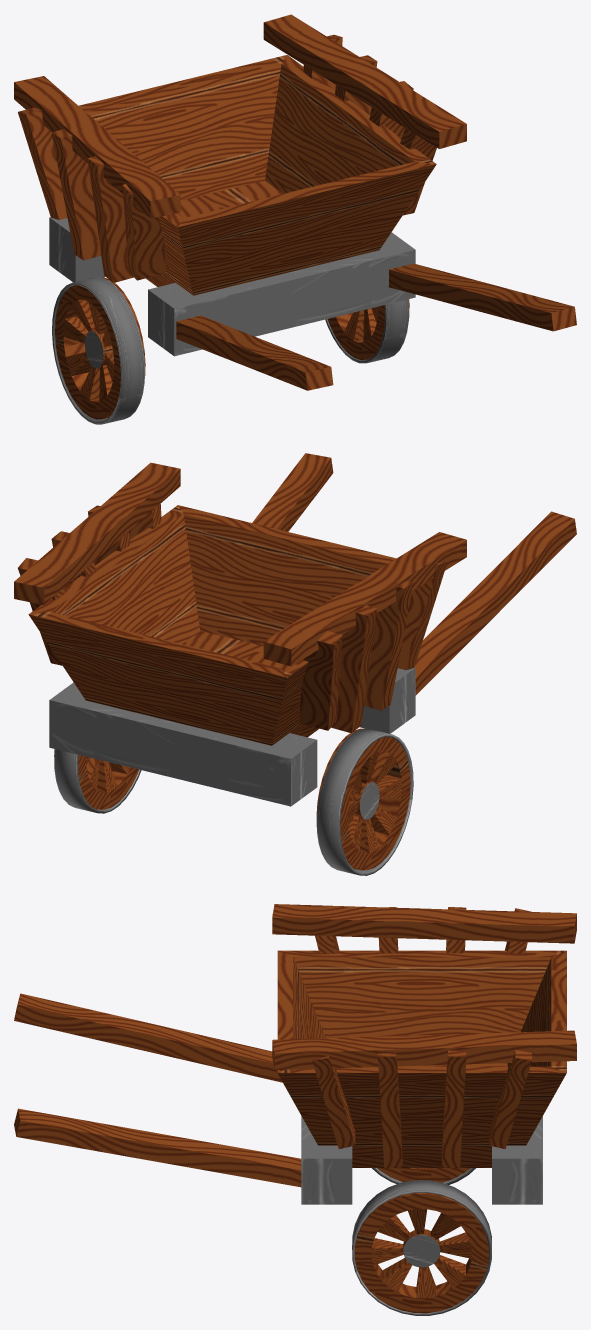
File: Wagon 2.fbx
The picture shows the model from 3 angles, top to bottom: view 1: azimuth 30°, elevation 25°; view 2: azimuth 150°, elevation 25°; view 3: azimuth 270°, elevation 25°; orthographic projection. The views are drawn at different scales.
Parts seen in each view (by area): view 1: Cube, Cube.001, Cube.002, Wheels Front, Cube.006, Cube.004, Cube.003; view 2: Cube, Cube.001, Wheels Front, Cube.002, Cube.006, Cube.004, Cube.003; view 3: Cube, Cube.002, Cube.006, Wheels Front, Cube.001, Cube.004, Cube.003.
Boxes of the visible parts, left/top/right/bottom form: Cube: left=78, top=55, right=436, bottom=295; Cube.001: left=49, top=217, right=415, bottom=356; Cube.002: left=14, top=14, right=466, bottom=218; Wheels Front: left=52, top=277, right=409, bottom=424; Cube.006: left=176, top=263, right=576, bottom=390; Cube.004: left=51, top=55, right=413, bottom=282; Cube.003: left=18, top=35, right=436, bottom=280; Cube: left=28, top=505, right=396, bottom=745; Cube.001: left=49, top=667, right=415, bottom=806; Wheels Front: left=54, top=728, right=413, bottom=875; Cube.002: left=14, top=462, right=466, bottom=666; Cube.006: left=252, top=453, right=576, bottom=695; Cube.004: left=51, top=505, right=413, bottom=733; Cube.003: left=18, top=504, right=447, bottom=730; Cube: left=277, top=950, right=566, bottom=1167; Cube.002: left=272, top=904, right=576, bottom=1070; Cube.006: left=14, top=993, right=301, bottom=1187; Wheels Front: left=352, top=1168, right=491, bottom=1315; Cube.001: left=301, top=1116, right=542, bottom=1204; Cube.004: left=378, top=907, right=466, bottom=1168; Cube.003: left=312, top=908, right=531, bottom=1149.
Bounding box in the file's own units: 10.25 × 8.67 × 16.31.
